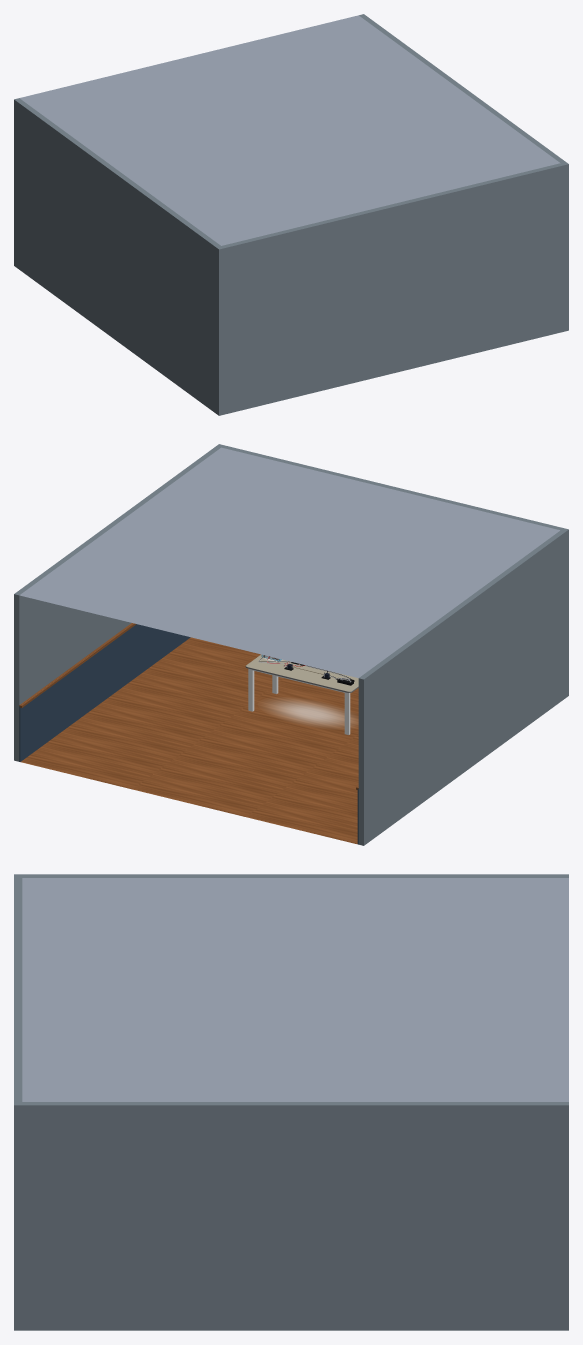
Rendered from OurLab.obj.
3 renders of one model, top to bottom at view 1: azimuth 30°, elevation 25°; view 2: azimuth 150°, elevation 25°; view 3: azimuth 270°, elevation 25°, orthographic. The views are drawn at different scales.
Visible parts, largest first — view 1: Lab/Room/Classroom_Ceiling/Ceiling, Lab/Room/Classroom_Back/Back_Wall, Lab/Room/Classroom_Right/Side_Wall, Lab/Room/Classroom_Left/Side_Wall; view 2: Lab/Room/Classroom_Ceiling/Ceiling, Lab/Room/Classroom_Floor/Floor, Lab/Room/Classroom_Right/Side_Wall, Lab/Room/Classroom_Left/Side_Wall, Lab/Room/Classroom_Left/Wainscot, Lab/Room/Classroom_Back/Back_Wall, Lab/Bench/Workbench/Imported_model_-_editable_meshes/Wood, Lab/Bench/Contact_Shadow, Lab/Bench/Workbench/Imported_model_-_editable_meshes/Legs, Lab/Room/Classroom_Left/Wainscot_Rail; view 3: Lab/Room/Classroom_Left/Side_Wall, Lab/Room/Classroom_Ceiling/Ceiling, Lab/Room/Classroom_Back/Back_Wall, Lab/Room/Classroom_Right/Side_Wall.
Boxes of the visible parts, x1=… form: Lab/Room/Classroom_Ceiling/Ceiling: x1=19, y1=15, x2=560, y2=245; Lab/Room/Classroom_Back/Back_Wall: x1=216, y1=162, x2=568, y2=415; Lab/Room/Classroom_Right/Side_Wall: x1=14, y1=98, x2=220, y2=413; Lab/Room/Classroom_Left/Side_Wall: x1=359, y1=14, x2=565, y2=162; Lab/Room/Classroom_Ceiling/Ceiling: x1=19, y1=447, x2=559, y2=677; Lab/Room/Classroom_Floor/Floor: x1=20, y1=637, x2=358, y2=844; Lab/Room/Classroom_Right/Side_Wall: x1=358, y1=530, x2=565, y2=845; Lab/Room/Classroom_Left/Side_Wall: x1=14, y1=446, x2=220, y2=761; Lab/Room/Classroom_Left/Wainscot: x1=19, y1=624, x2=190, y2=761; Lab/Room/Classroom_Back/Back_Wall: x1=216, y1=444, x2=568, y2=697; Lab/Bench/Workbench/Imported_model_-_editable_meshes/Wood: x1=245, y1=654, x2=358, y2=692; Lab/Bench/Contact_Shadow: x1=268, y1=700, x2=354, y2=726; Lab/Bench/Workbench/Imported_model_-_editable_meshes/Legs: x1=248, y1=668, x2=350, y2=734; Lab/Room/Classroom_Left/Wainscot_Rail: x1=19, y1=623, x2=136, y2=707; Lab/Room/Classroom_Left/Side_Wall: x1=22, y1=1102, x2=568, y2=1330; Lab/Room/Classroom_Ceiling/Ceiling: x1=22, y1=878, x2=568, y2=1101; Lab/Room/Classroom_Back/Back_Wall: x1=14, y1=874, x2=22, y2=1330; Lab/Room/Classroom_Right/Side_Wall: x1=22, y1=874, x2=568, y2=877.
Bounding box in the file's own units: 6.6 × 3 × 6.7.
